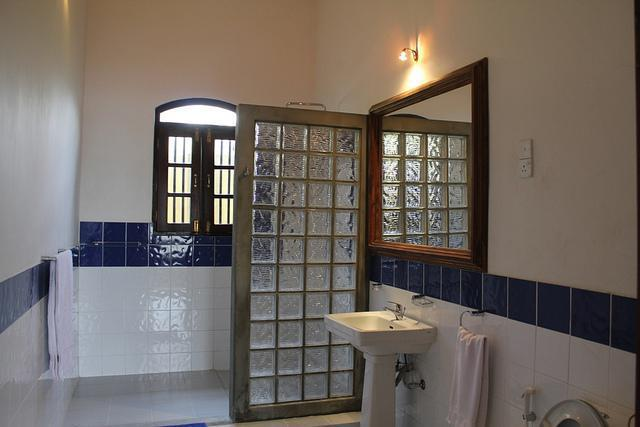Ducha: (217, 97, 364, 419)
Lavamanos: (329, 291, 438, 426)
